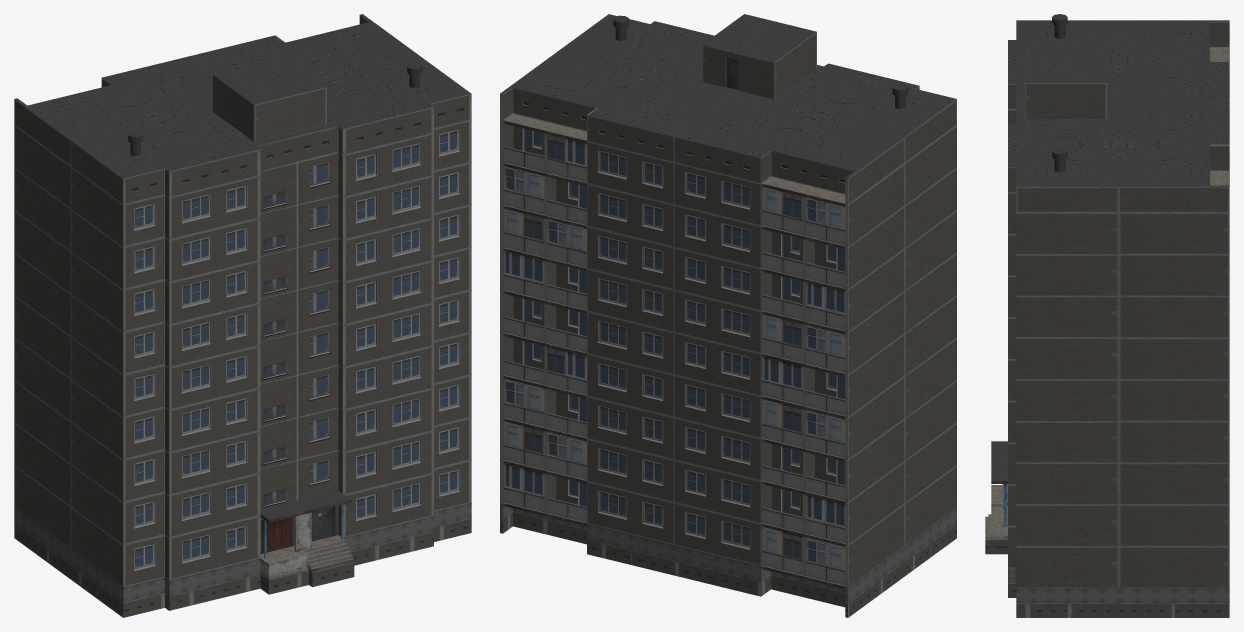
The picture shows the model from 3 angles, left to right: view 1: azimuth 30°, elevation 25°; view 2: azimuth 150°, elevation 25°; view 3: azimuth 270°, elevation 25°; orthographic projection.
Visible parts, largest first — view 1: 548914424.Murka's 83 Street 1 level; view 2: 548914424.Murka's 83 Street 1 level; view 3: 548914424.Murka's 83 Street 1 level.
Boxes of the visible parts, <box> form: 548914424.Murka's 83 Street 1 level: <box>14,14,471,617</box>; 548914424.Murka's 83 Street 1 level: <box>500,14,956,617</box>; 548914424.Murka's 83 Street 1 level: <box>985,14,1229,617</box>.
Bounding box in the file's own units: 24 × 31.41 × 14.88.
1 material, 1 textured.
